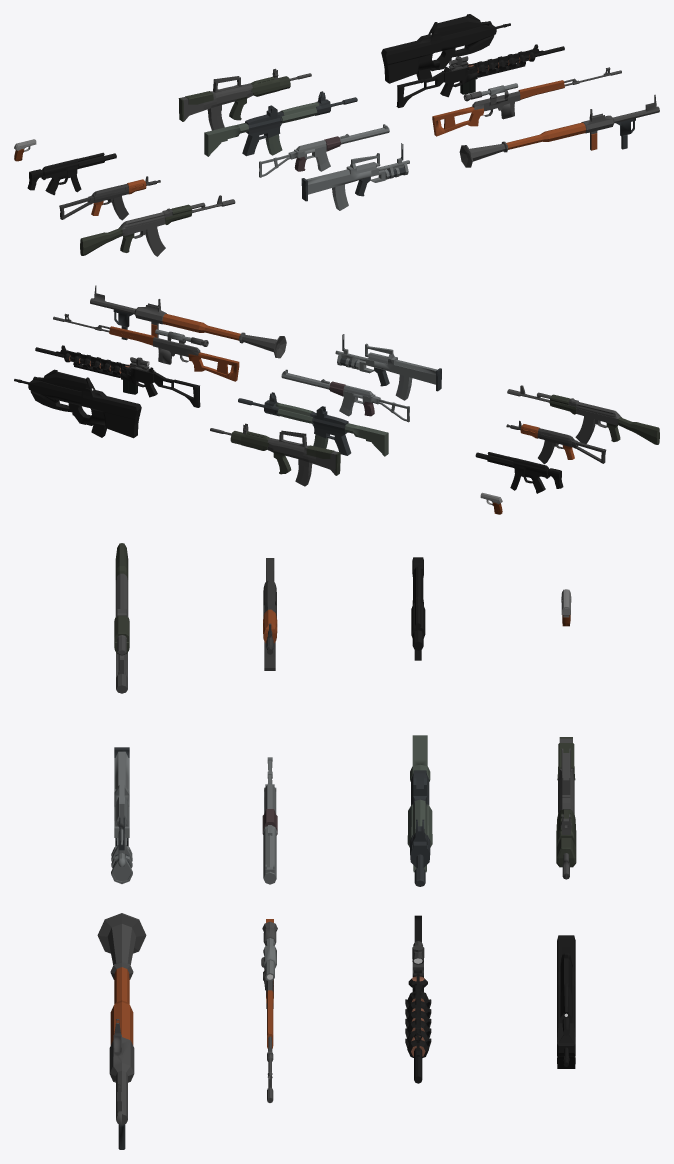
The model's file is GunPack.fbx.
3 renders of one model, top to bottom at view 1: azimuth 30°, elevation 25°; view 2: azimuth 150°, elevation 25°; view 3: azimuth 270°, elevation 25°, orthographic. The views are drawn at different scales.
Visible parts, largest first — view 1: Cube, Cylinder.004, Cylinder.003, Cylinder.009, Cylinder.007, Cylinder.008, Cylinder.006, Cylinder.002, Cylinder.005, Cylinder, Cylinder.001; view 2: Cube, Cylinder.003, Cylinder.004, Cylinder.007, Cylinder.009, Cylinder.008, Cylinder.006, Cylinder.002, Cylinder.005, Cylinder, Cylinder.001; view 3: Cylinder.009, Cylinder.004, Cylinder.007, Cube, Cylinder.003, Cylinder.006, Cylinder.002, Cylinder.008, Cylinder.005, Cylinder.001, Cylinder.
Part boxes in pixels (box(x1,y1,x2,y2)): Cube: box(381, 14, 510, 83); Cylinder.004: box(204, 91, 357, 156); Cylinder.003: box(178, 68, 311, 130); Cylinder.009: box(459, 94, 659, 167); Cylinder.007: box(396, 44, 564, 107); Cylinder.008: box(432, 67, 621, 136); Cylinder.006: box(301, 143, 409, 210); Cylinder.002: box(80, 195, 235, 256); Cylinder.005: box(259, 124, 389, 177); Cylinder: box(27, 152, 116, 195); Cylinder.001: box(59, 176, 160, 220); Cube: box(14, 369, 141, 438); Cylinder.003: box(210, 423, 340, 486); Cylinder.004: box(238, 392, 388, 456); Cylinder.007: box(35, 345, 200, 407); Cylinder.009: box(90, 285, 286, 358); Cylinder.008: box(53, 313, 239, 381); Cylinder.006: box(335, 334, 441, 400); Cylinder.002: box(507, 385, 659, 444); Cylinder.005: box(281, 369, 409, 422); Cylinder: box(475, 452, 563, 493); Cylinder.001: box(506, 420, 606, 464); Cylinder.009: box(97, 913, 146, 1149); Cylinder.004: box(407, 735, 432, 886); Cylinder.007: box(405, 915, 431, 1083); Cube: box(557, 935, 575, 1068); Cylinder.003: box(556, 737, 576, 879); Cylinder.006: box(111, 747, 132, 883); Cylinder.002: box(114, 543, 129, 693); Cylinder.008: box(261, 919, 277, 1102); Cylinder.005: box(262, 757, 277, 884); Cylinder.001: box(263, 558, 277, 670); Cylinder: box(411, 557, 425, 660).
Bounding box in the file's own units: 2658 × 969 × 272.
